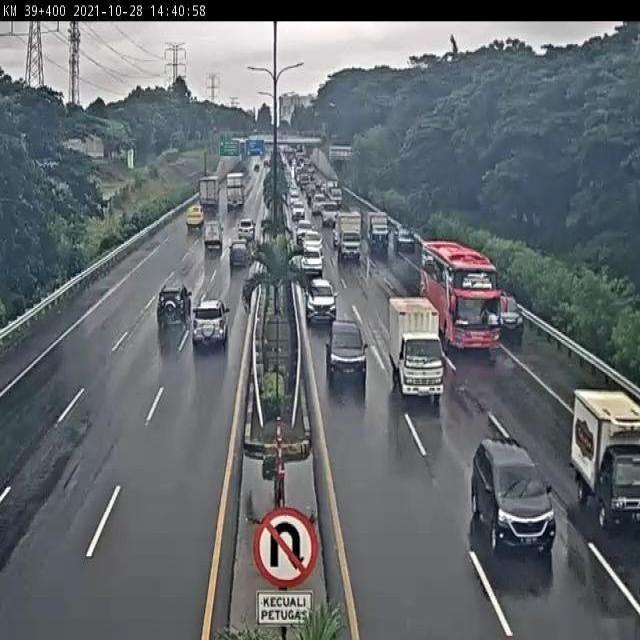bus-l-: (420, 238, 503, 350)
car: (470, 435, 557, 557), (328, 322, 369, 382), (192, 298, 228, 346), (302, 279, 338, 325), (156, 281, 192, 327), (495, 295, 525, 337), (228, 238, 251, 270), (301, 247, 325, 274)
truck-m-: (385, 298, 446, 402)
truck-s-: (570, 388, 640, 533)
